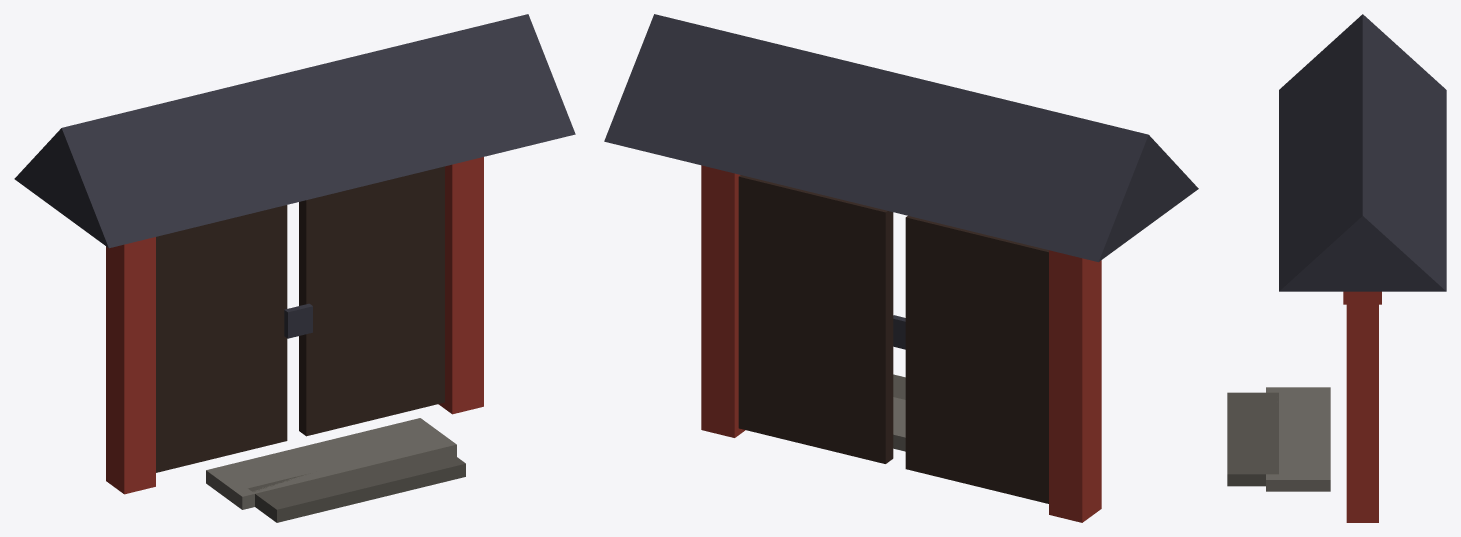
File: s2_myeongbu_gate.glb
3 views of the same model, side by side, from view 1: azimuth 30°, elevation 25°; view 2: azimuth 150°, elevation 25°; view 3: azimuth 270°, elevation 25° (orthographic). The views are drawn at different scales.
Visible parts, largest first — view 1: s2_myeongbu_gate; view 2: s2_myeongbu_gate; view 3: s2_myeongbu_gate.
Part boxes in pixels (x1,y1,x2,y2): s2_myeongbu_gate: [14, 14, 575, 522]; s2_myeongbu_gate: [604, 14, 1198, 522]; s2_myeongbu_gate: [1227, 14, 1446, 522].
Bounding box in the file's own units: 7.4 × 5.65 × 3.4.
